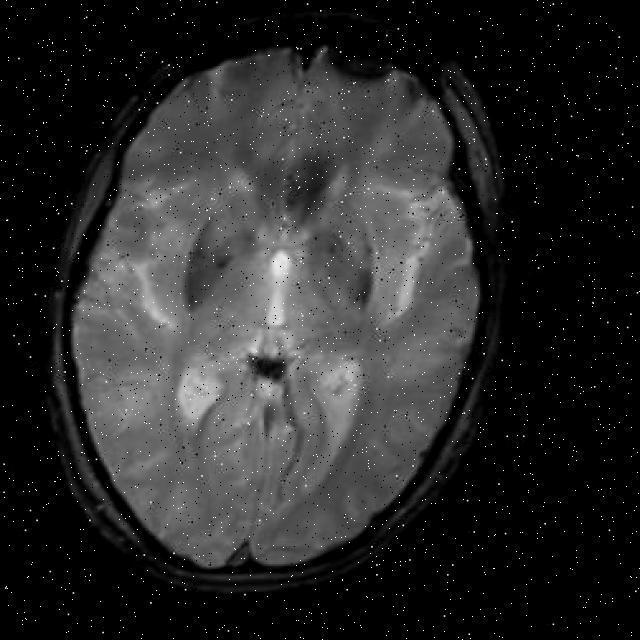CN: (352, 247, 414, 341)
EMCI: (258, 151, 370, 258)
MCI: (164, 205, 253, 332)
